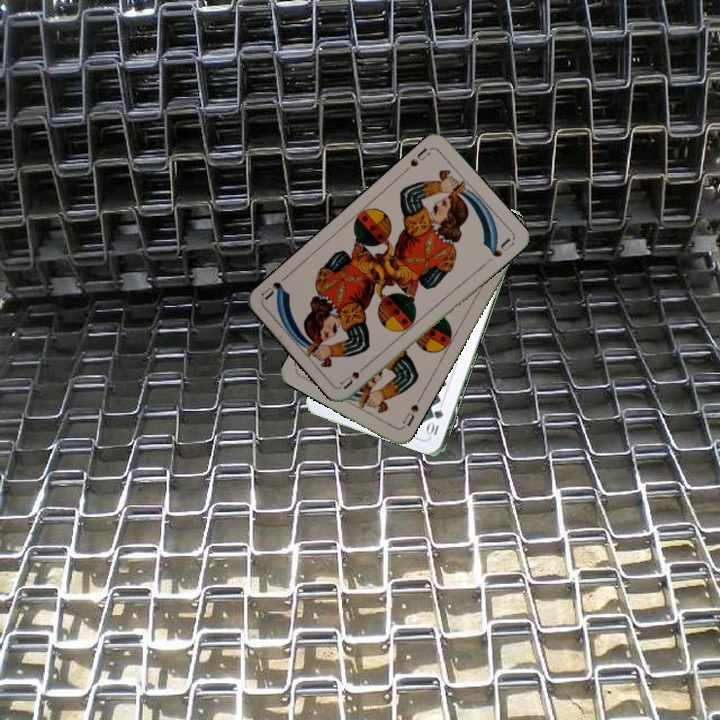G10: (425, 406, 446, 439)
SU: (337, 359, 372, 391), (398, 394, 423, 429), (406, 144, 433, 169)
